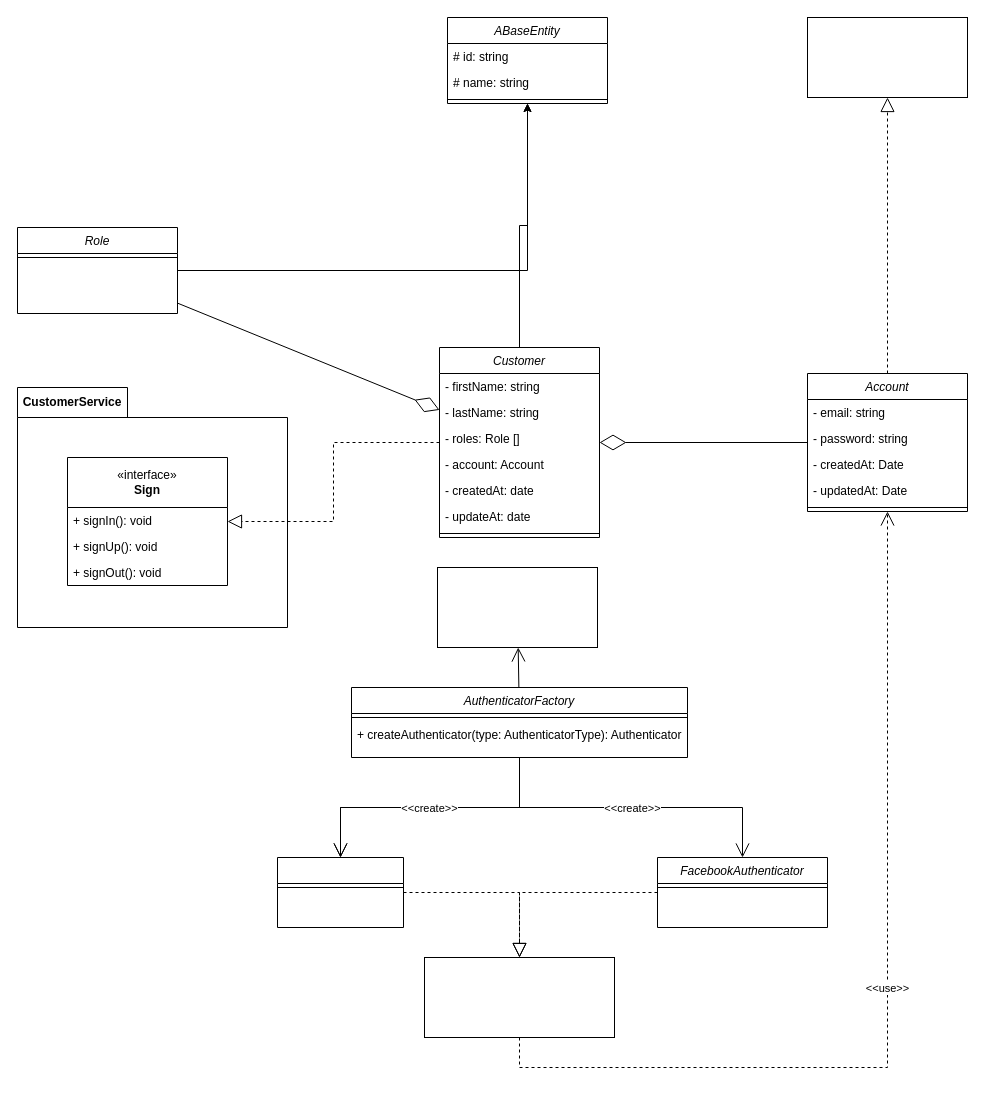
Some shapes in this 985 by 1099 pixel diagram are drawn without their labels. The shapes that lost their labels are listed below. From the top down, each one's centre as x and y in pixels, then its label:
At point (887, 57): "<<interface>> Modify + delete(): void + update(): void".
At point (517, 607): "<<enum>> AuthenticatorType GOOGLE FACEBOOK".
At point (340, 892): "GoogleAuthenticator".
At point (519, 997): "<<interface>> IAuthenticator + authenticate(account: Account)".
